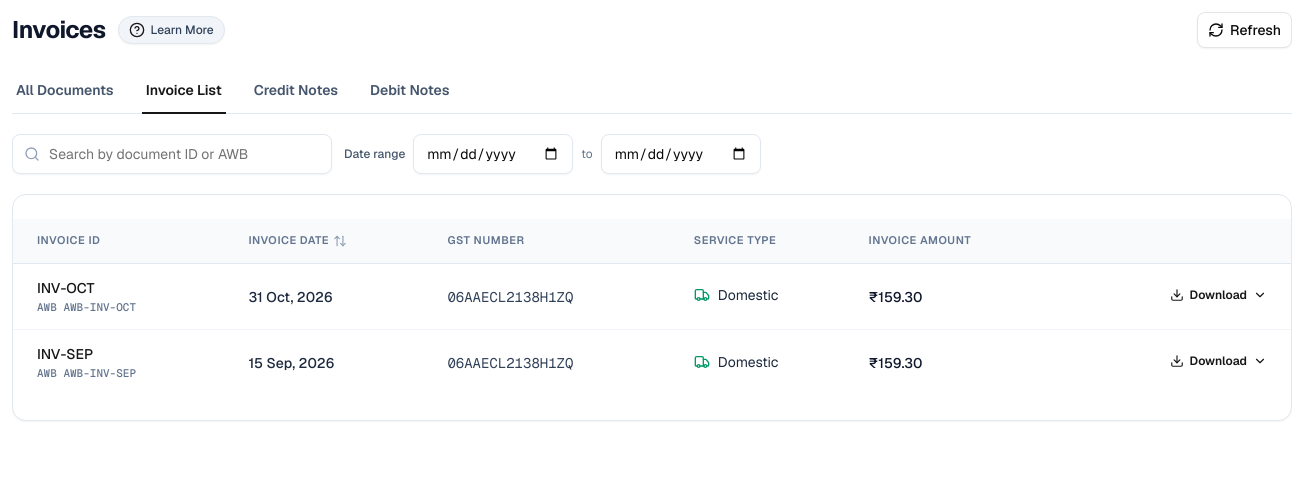
Invoices list › has no fake date chip, shows the AWB, and filters by a real date range
Check: the link "INV-OCT" is shown, box [37,278,94,298]
Check: the text "AWB AWB-INV-OCT" is shown, box [37,300,136,314]
Type "2026-10-01" into the date field with test id "invoices.filters.from" at coordinates (493, 154), box [413,134,573,174]
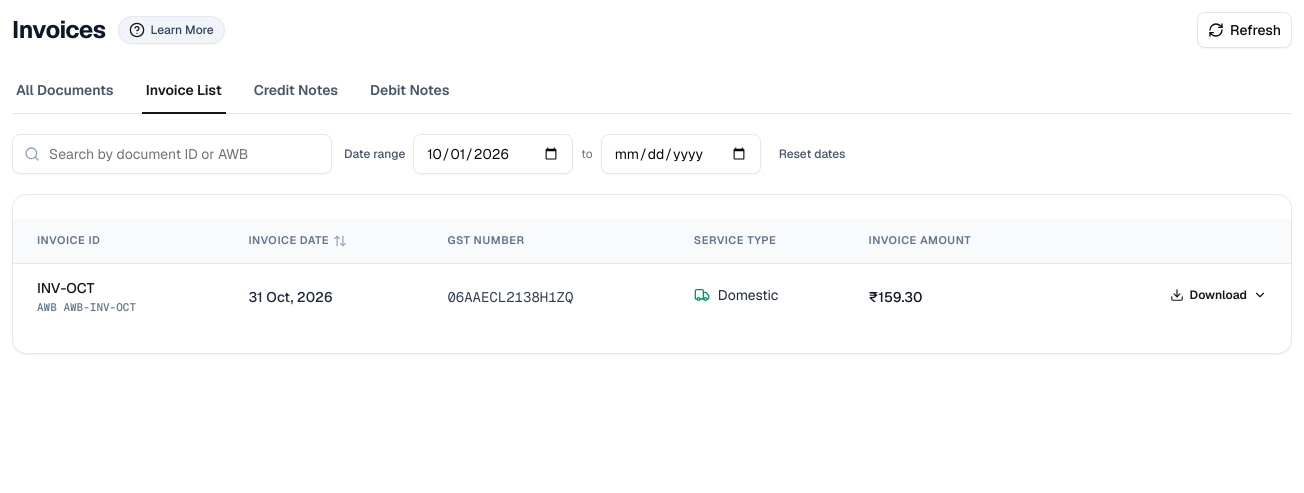
Check: the link "INV-OCT" is shown, box [37,278,94,298]
Check: no links "INV-SEP" are shown
Type "2026-10-30" into the date field with test id "invoices.filters.to" at coordinates (681, 154), box [601,134,761,174]
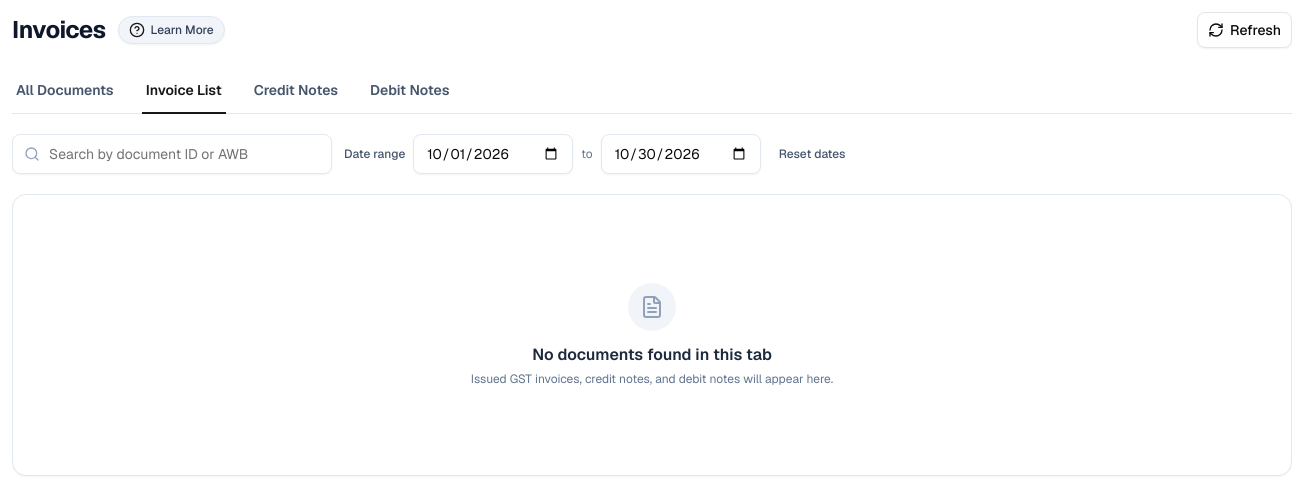
Check: the text "No documents found in this tab" is shown, box [532,343,772,367]
